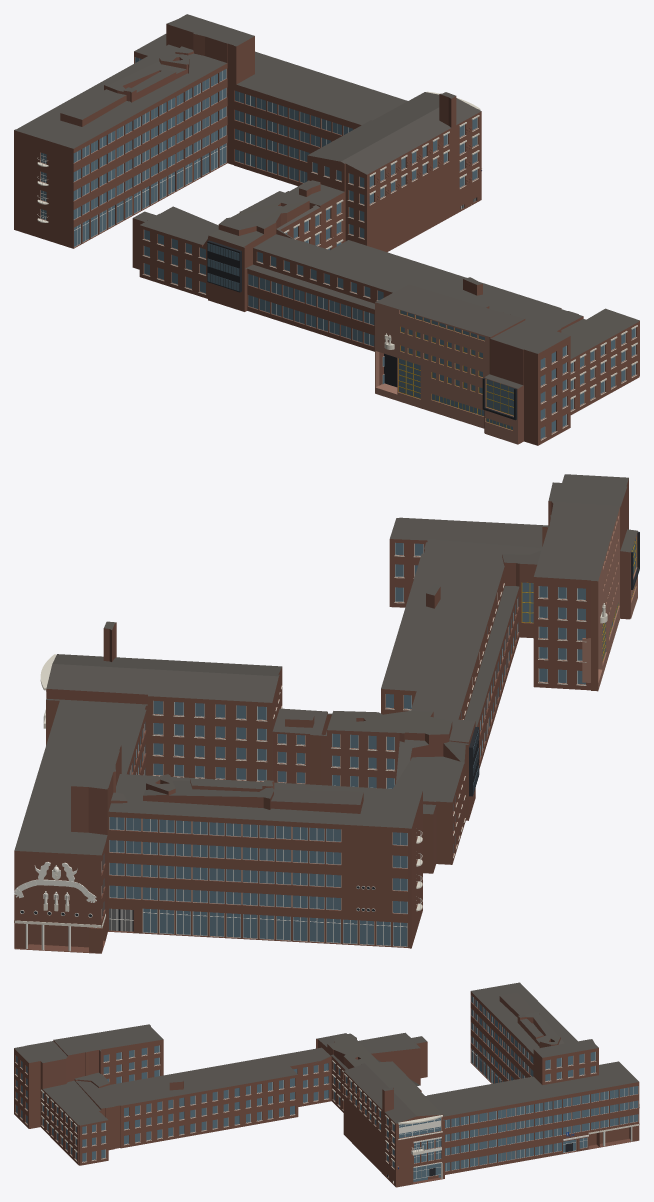
The model's file is hoofdbureau-elandsgracht.glb.
The picture shows the model from 3 angles, top to bottom: view 1: azimuth 30°, elevation 25°; view 2: azimuth 150°, elevation 25°; view 3: azimuth 270°, elevation 25°; orthographic projection. The views are drawn at different scales.
Parts seen in each view (by area): view 1: hoofdbureau-elandsgracht; view 2: hoofdbureau-elandsgracht; view 3: hoofdbureau-elandsgracht.
Part boxes in pixels (x1,y1,x2,y2): hoofdbureau-elandsgracht: (14,14,639,445); hoofdbureau-elandsgracht: (14,474,639,953); hoofdbureau-elandsgracht: (14,982,639,1187).
Bounding box in the file's own units: 83.31 × 24.83 × 164.
